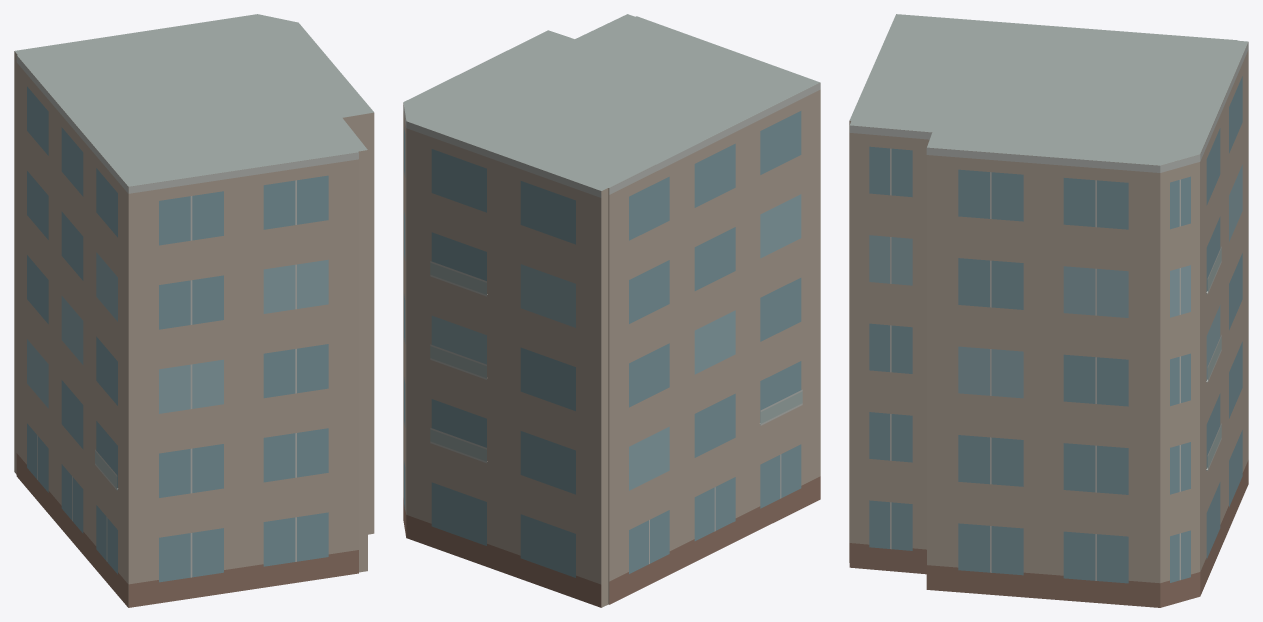
The model's file is survey-upis-32528895.glb.
The picture shows the model from 3 angles, left to right: view 1: azimuth 30°, elevation 25°; view 2: azimuth 150°, elevation 25°; view 3: azimuth 270°, elevation 25°; orthographic projection. The views are drawn at different scales.
Visible parts, largest first — view 1: survey-upis-32528895.tmp; view 2: survey-upis-32528895.tmp; view 3: survey-upis-32528895.tmp.
Part boxes in pixels (x1,y1,x2,y2): survey-upis-32528895.tmp: [14, 14, 374, 607]; survey-upis-32528895.tmp: [403, 14, 820, 607]; survey-upis-32528895.tmp: [849, 14, 1248, 607].
Size of the model in its own units: 10.71 by 14.55 by 11.92.
